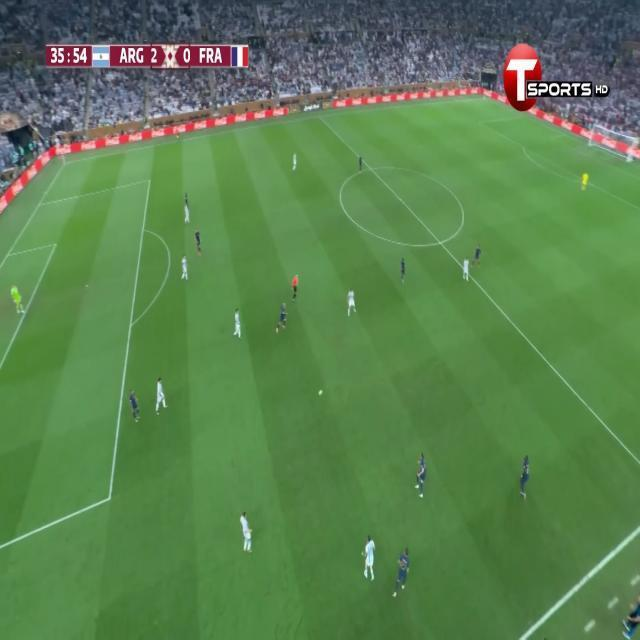ball: (315, 383, 331, 406)
goalkeeper: (581, 168, 592, 197)
player: (230, 494, 261, 561), (410, 432, 432, 515), (119, 383, 148, 436), (361, 514, 380, 588), (173, 185, 198, 233), (519, 431, 534, 508), (150, 369, 172, 421), (228, 301, 246, 353), (286, 141, 305, 186), (468, 234, 485, 280), (273, 295, 289, 343), (394, 252, 410, 294), (192, 225, 209, 263), (345, 286, 360, 329), (179, 247, 190, 288), (460, 247, 472, 284), (353, 155, 368, 181)
referee: (290, 274, 304, 306)
